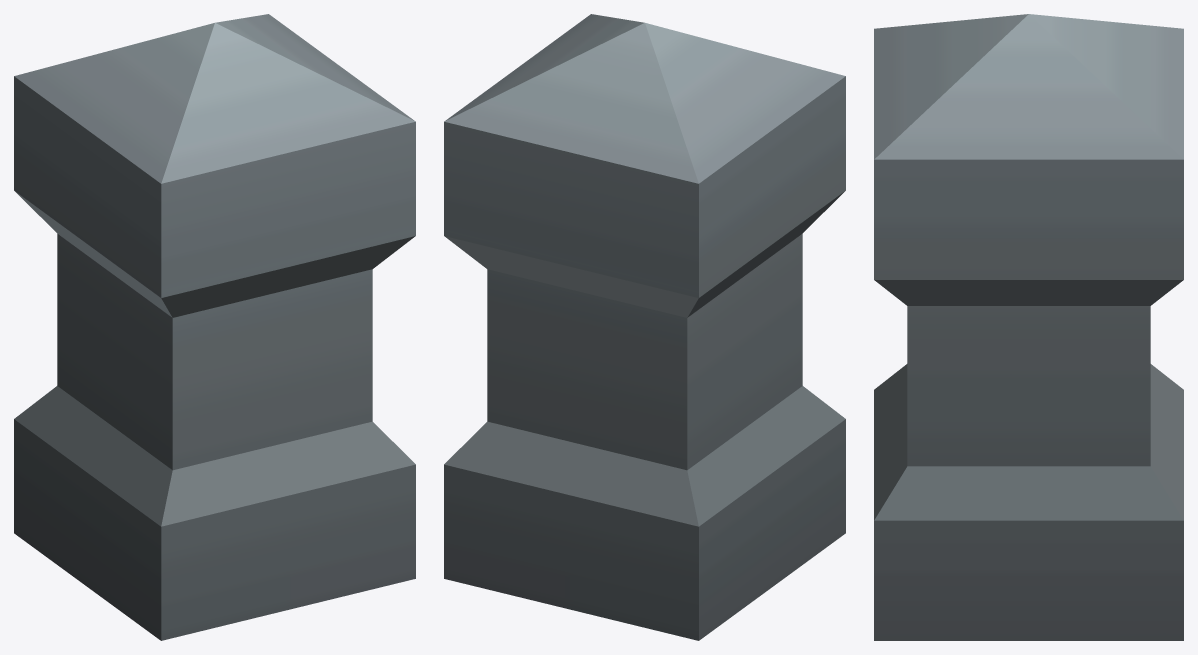
Rendered from column.glb.
3 views of the same model, side by side, from view 1: azimuth 30°, elevation 25°; view 2: azimuth 150°, elevation 25°; view 3: azimuth 270°, elevation 25° (orthographic). The views are drawn at different scales.
Parts seen in each view (by area): view 1: column; view 2: column; view 3: column.
Boxes of the visible parts, <box> form: column: <box>14,14,415,640</box>; column: <box>444,14,845,640</box>; column: <box>874,14,1183,640</box>.
Bounding box in the file's own units: 0.7001 × 1.4 × 0.7001.
Materials: 1 (1 with a texture image).
